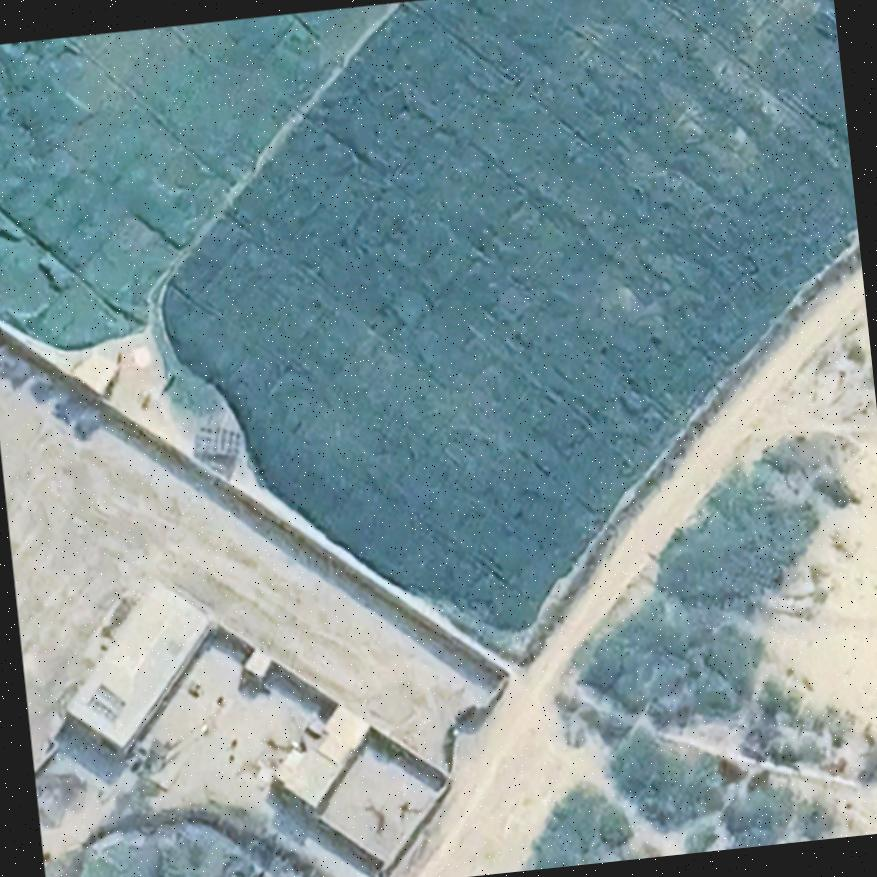Solarpanel: (185, 417, 248, 461), (78, 679, 131, 727)
